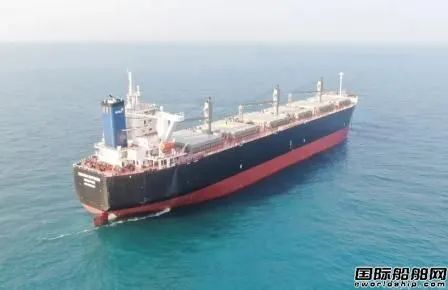Cargoship: (70, 62, 358, 217)
